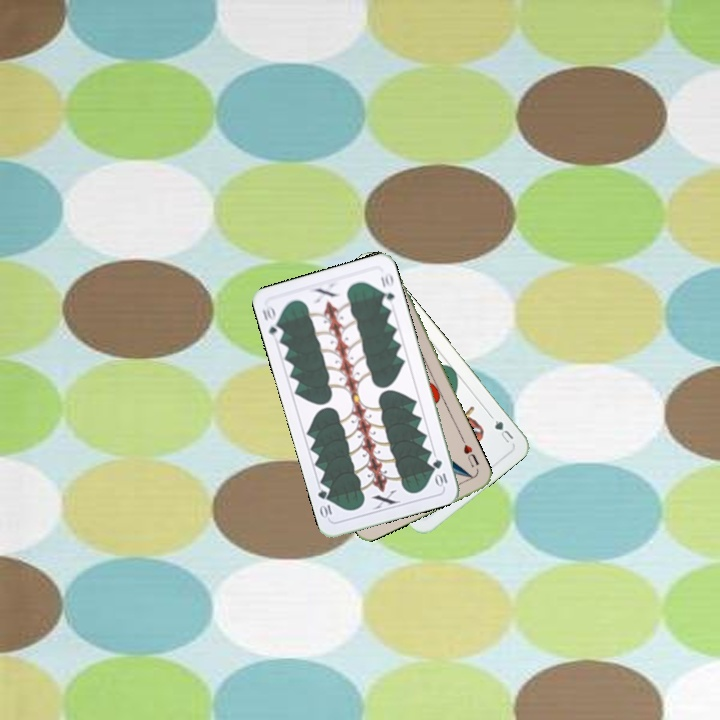G10: (258, 301, 286, 342), (429, 455, 450, 489)
GU: (490, 416, 516, 446)
HU: (459, 440, 481, 469)
